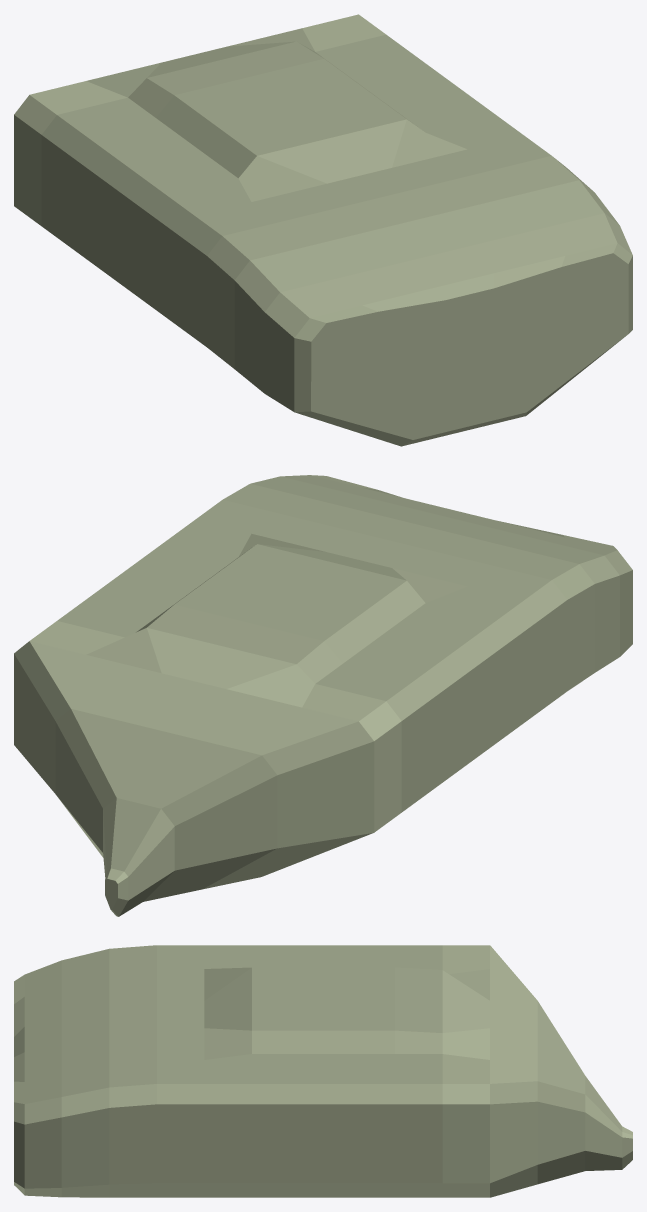
File: hartmann_light_a.glb
The picture shows the model from 3 angles, top to bottom: view 1: azimuth 30°, elevation 25°; view 2: azimuth 150°, elevation 25°; view 3: azimuth 270°, elevation 25°; orthographic projection. The views are drawn at different scales.
Parts seen in each view (by area): view 1: hartmann_light_a; view 2: hartmann_light_a; view 3: hartmann_light_a.
Part boxes in pixels (x1,y1,x2,y2): hartmann_light_a: (14,14,632,446); hartmann_light_a: (14,475,632,916); hartmann_light_a: (14,945,632,1197).
Bounding box in the file's own units: 2.9 × 1.52 × 5.
